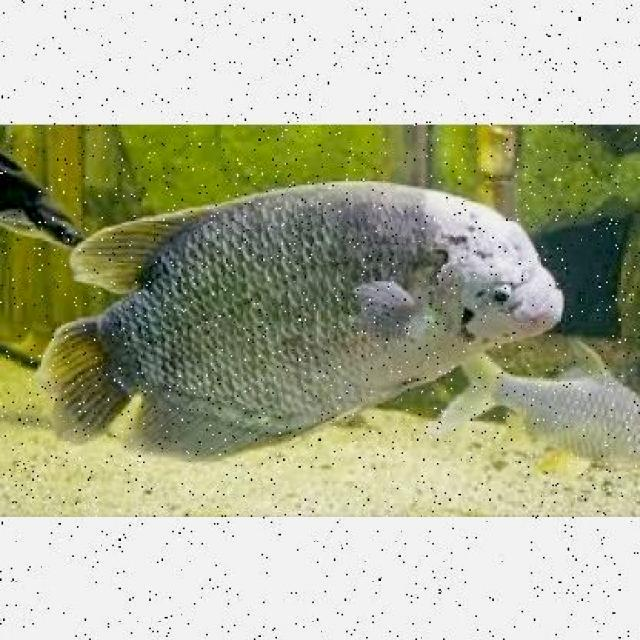gurame: (43, 178, 560, 462), (462, 353, 640, 475)
